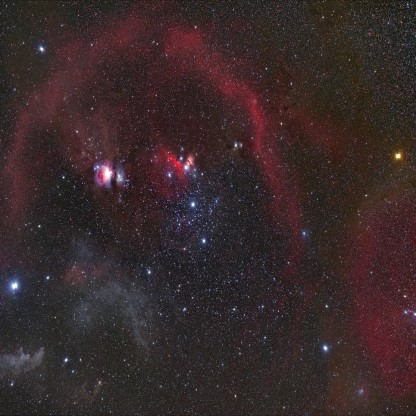Orion: (193, 228, 225, 254), (386, 138, 409, 169), (10, 268, 31, 299), (174, 157, 196, 177), (185, 196, 208, 215), (31, 39, 49, 63), (316, 336, 332, 358)
